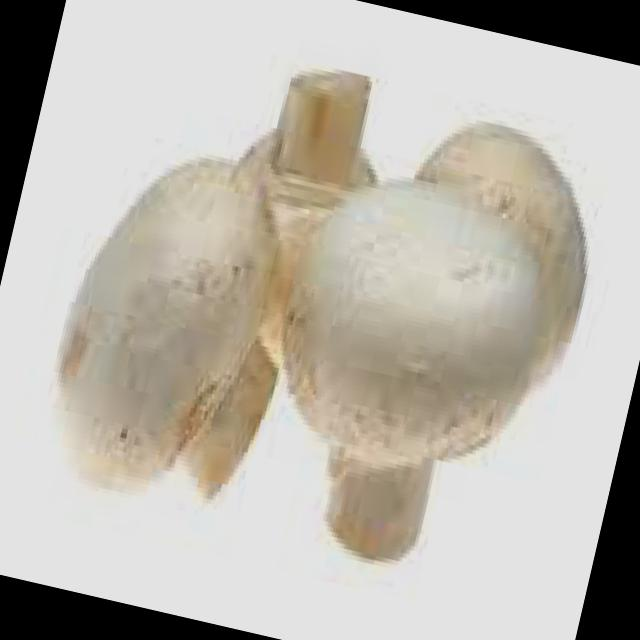Agaricus bisporus: (219, 170, 572, 584), (38, 128, 321, 514)
